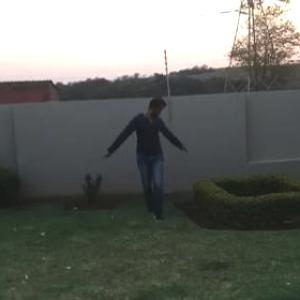land: (100, 95, 197, 230)
